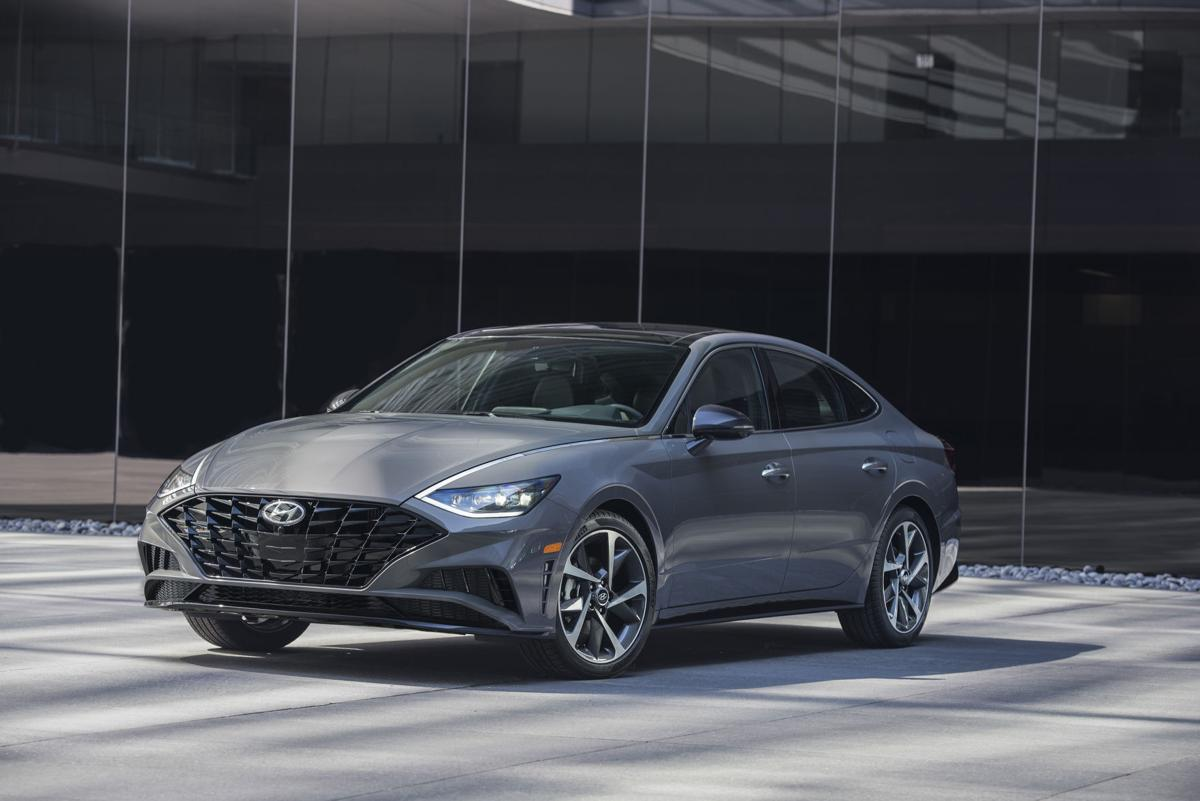car: (135, 320, 962, 678)
